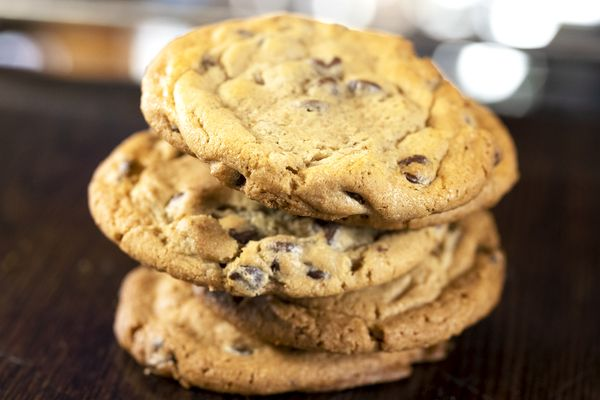soup: (95, 11, 519, 389)
